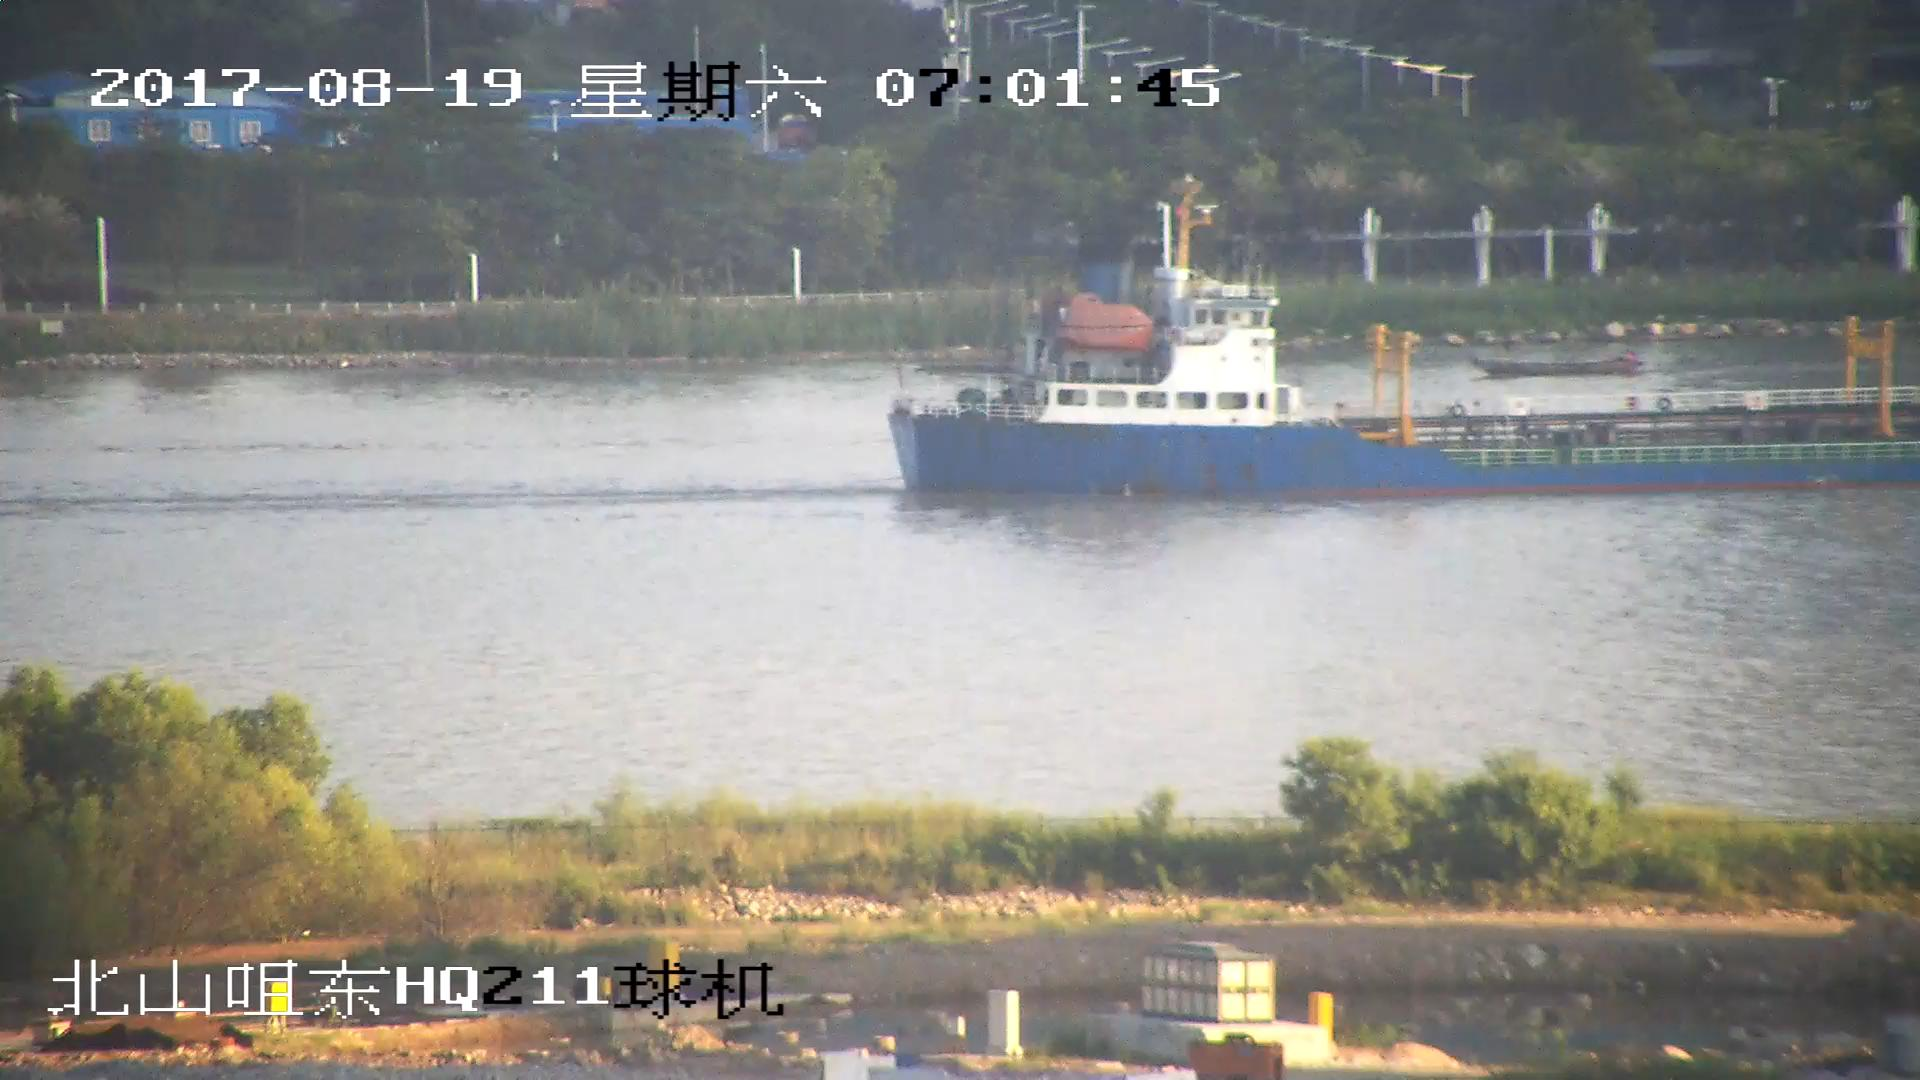general cargo ship: (891, 212, 1920, 489)
